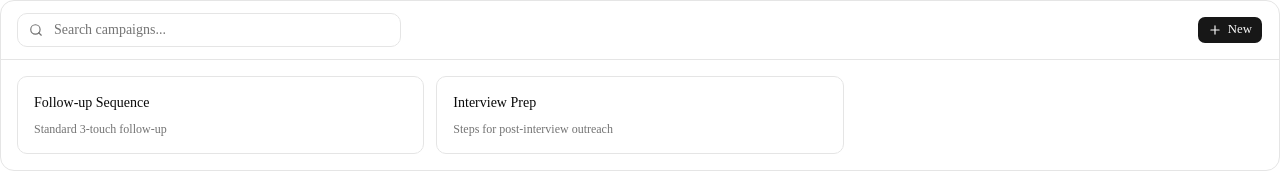
Scenario: filters campaigns by search query
The image size is (1280, 188).
Type "Interview" into the field with placeholder "Search campaigns...".
click(209, 30); type("Interview")  # box [17,13,401,47]
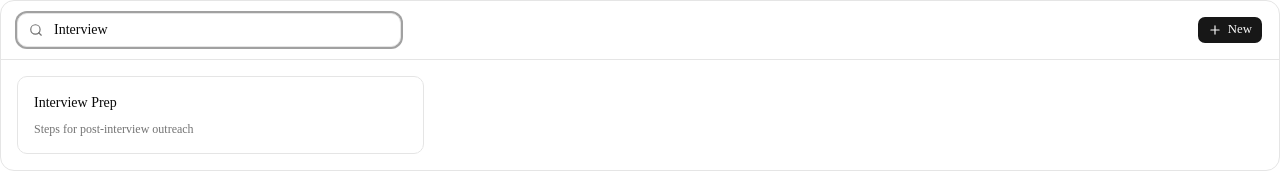
Check: the heading "Interview Prep" is shown, box [34,95,117,110]
Check: the heading "Follow-up Sequence" is gone
